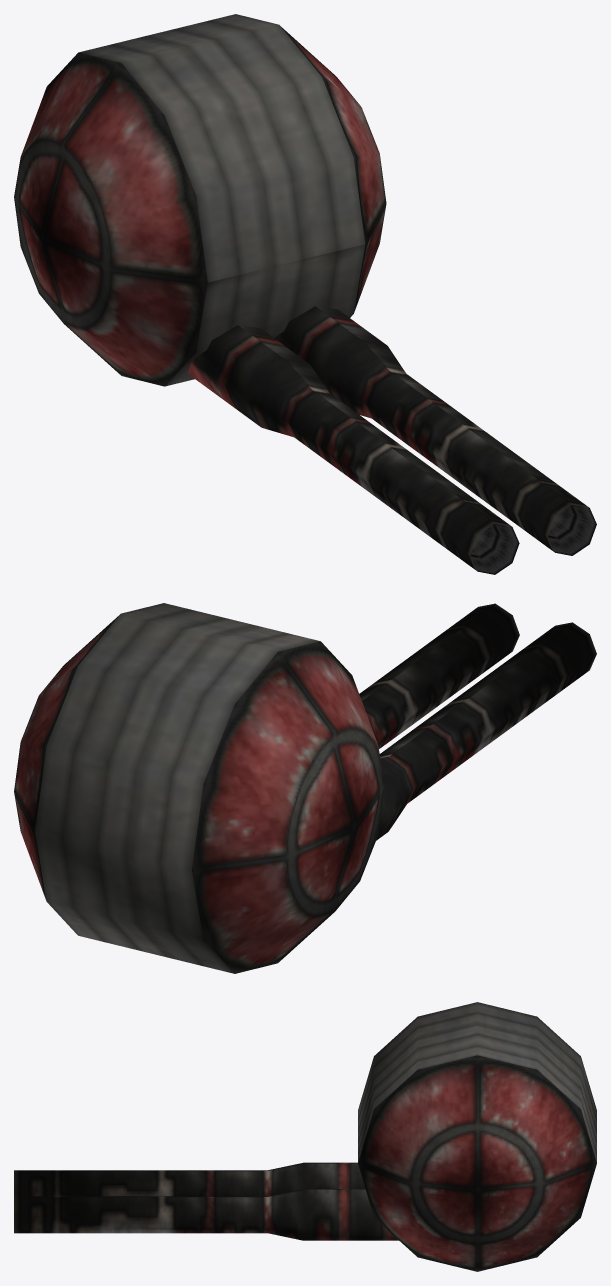
Rendered from Rail-12TurretInverted.fbx.
3 renders of one model, top to bottom at view 1: azimuth 30°, elevation 25°; view 2: azimuth 150°, elevation 25°; view 3: azimuth 270°, elevation 25°, orthographic. The views are drawn at different scales.
Visible parts, largest first — view 1: Rail-12TurretInverted; view 2: Rail-12TurretInverted; view 3: Rail-12TurretInverted.
Boxes of the visible parts, <box> form: Rail-12TurretInverted: <box>14,14,596,574</box>; Rail-12TurretInverted: <box>14,603,596,973</box>; Rail-12TurretInverted: <box>14,1002,596,1271</box>.
Bounding box in the file's own units: 39.49 × 37.47 × 91.4.
